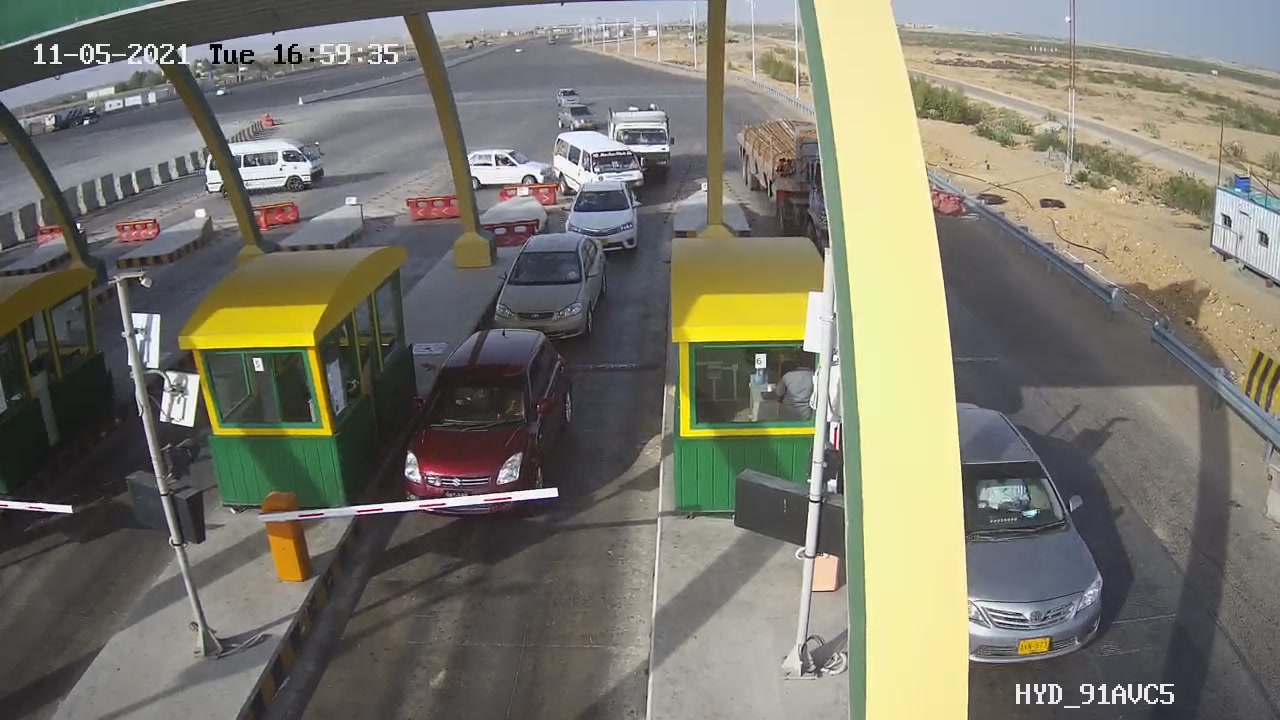F1: (388, 314, 592, 533), (488, 223, 622, 351), (550, 168, 653, 269)
